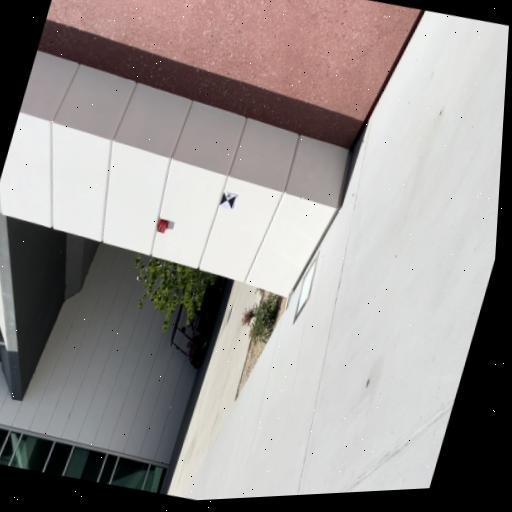target9: (219, 191, 237, 211)
